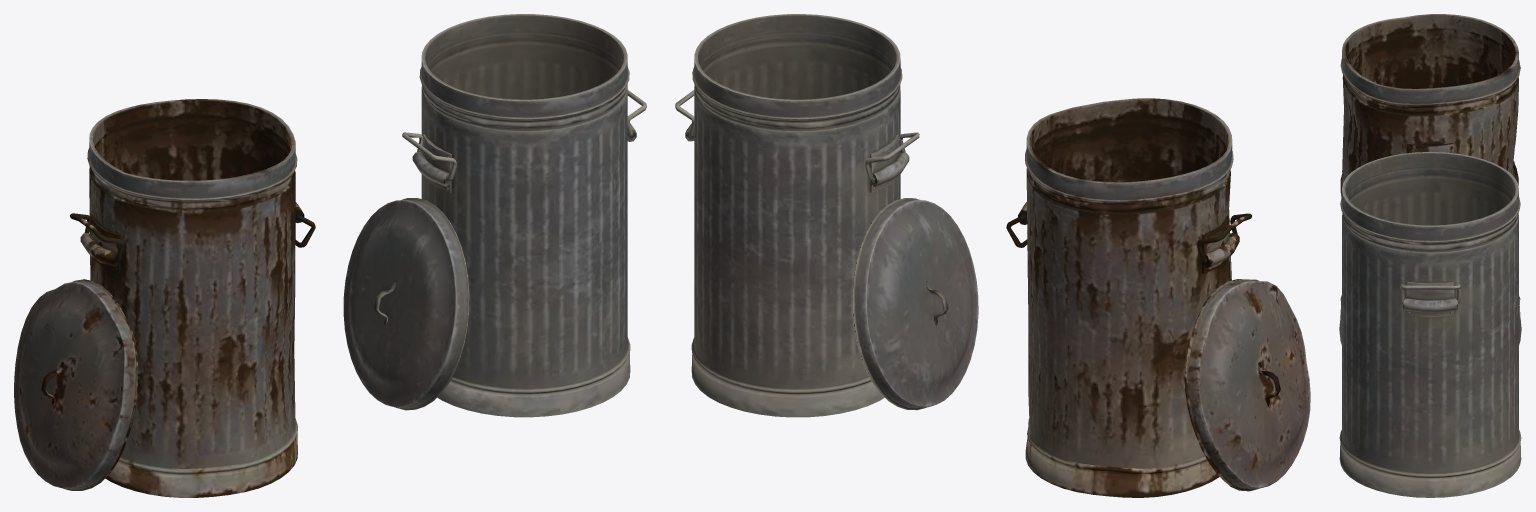
Rendered from metal_trash_can.glb.
3 renders of one model, left to right at view 1: azimuth 30°, elevation 25°; view 2: azimuth 150°, elevation 25°; view 3: azimuth 270°, elevation 25°, orthographic. The views are drawn at different scales.
Parts seen in each view (by area): view 1: metal_trash_can_handle_left, metal_trash_can_rust; view 2: metal_trash_can_handle_left, metal_trash_can_rust; view 3: metal_trash_can_handle_left, metal_trash_can_rust.
Part boxes in pixels (x1,y1,x2,y2): metal_trash_can_handle_left: (343, 14, 646, 417); metal_trash_can_rust: (14, 99, 315, 497); metal_trash_can_handle_left: (675, 14, 978, 417); metal_trash_can_rust: (1006, 98, 1310, 497); metal_trash_can_handle_left: (1339, 152, 1521, 497); metal_trash_can_rust: (1340, 14, 1520, 317).
Bounding box in the file's own units: 1.78 × 0.9062 × 0.5543.
2 materials, 2 textured.
